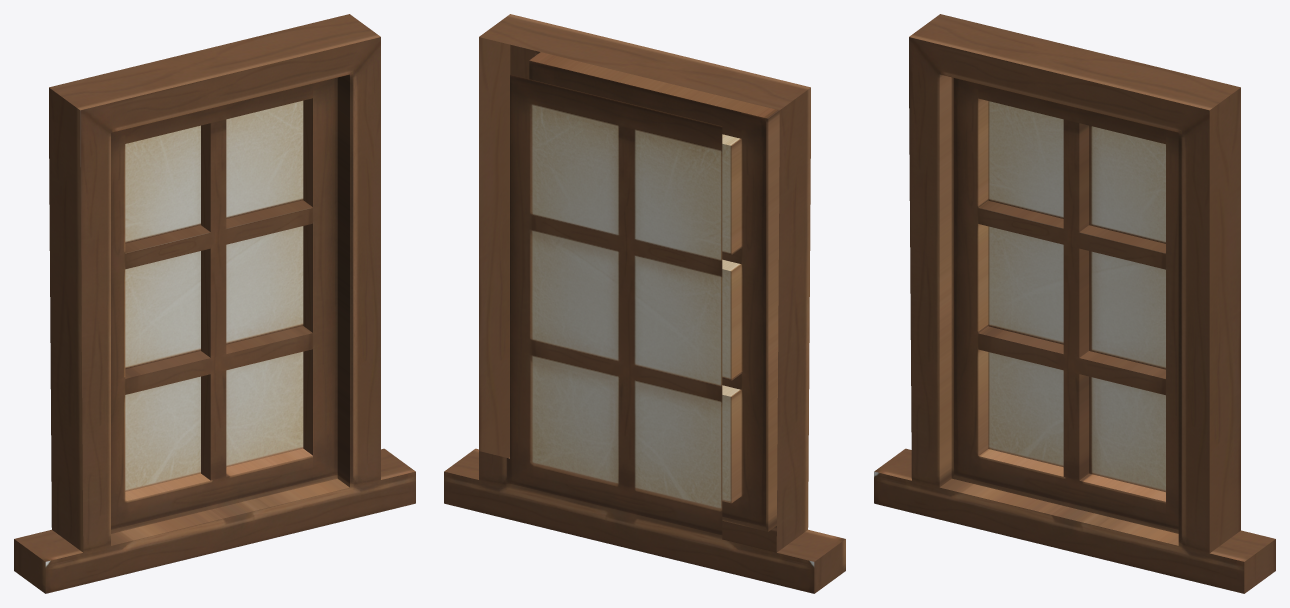
File: WindowNew.fbx
The picture shows the model from 3 angles, left to right: view 1: azimuth 30°, elevation 25°; view 2: azimuth 150°, elevation 25°; view 3: azimuth 330°, elevation 25°; orthographic projection.
Parts seen in each view (by area): view 1: Cube; view 2: Cube; view 3: Cube.
Boxes of the visible parts, box(x1,y1,x2,y2) form: Cube: box(14, 14, 415, 593); Cube: box(444, 14, 845, 593); Cube: box(874, 14, 1275, 593).
Size of the model in its own units: 212 by 260 by 31.24.
